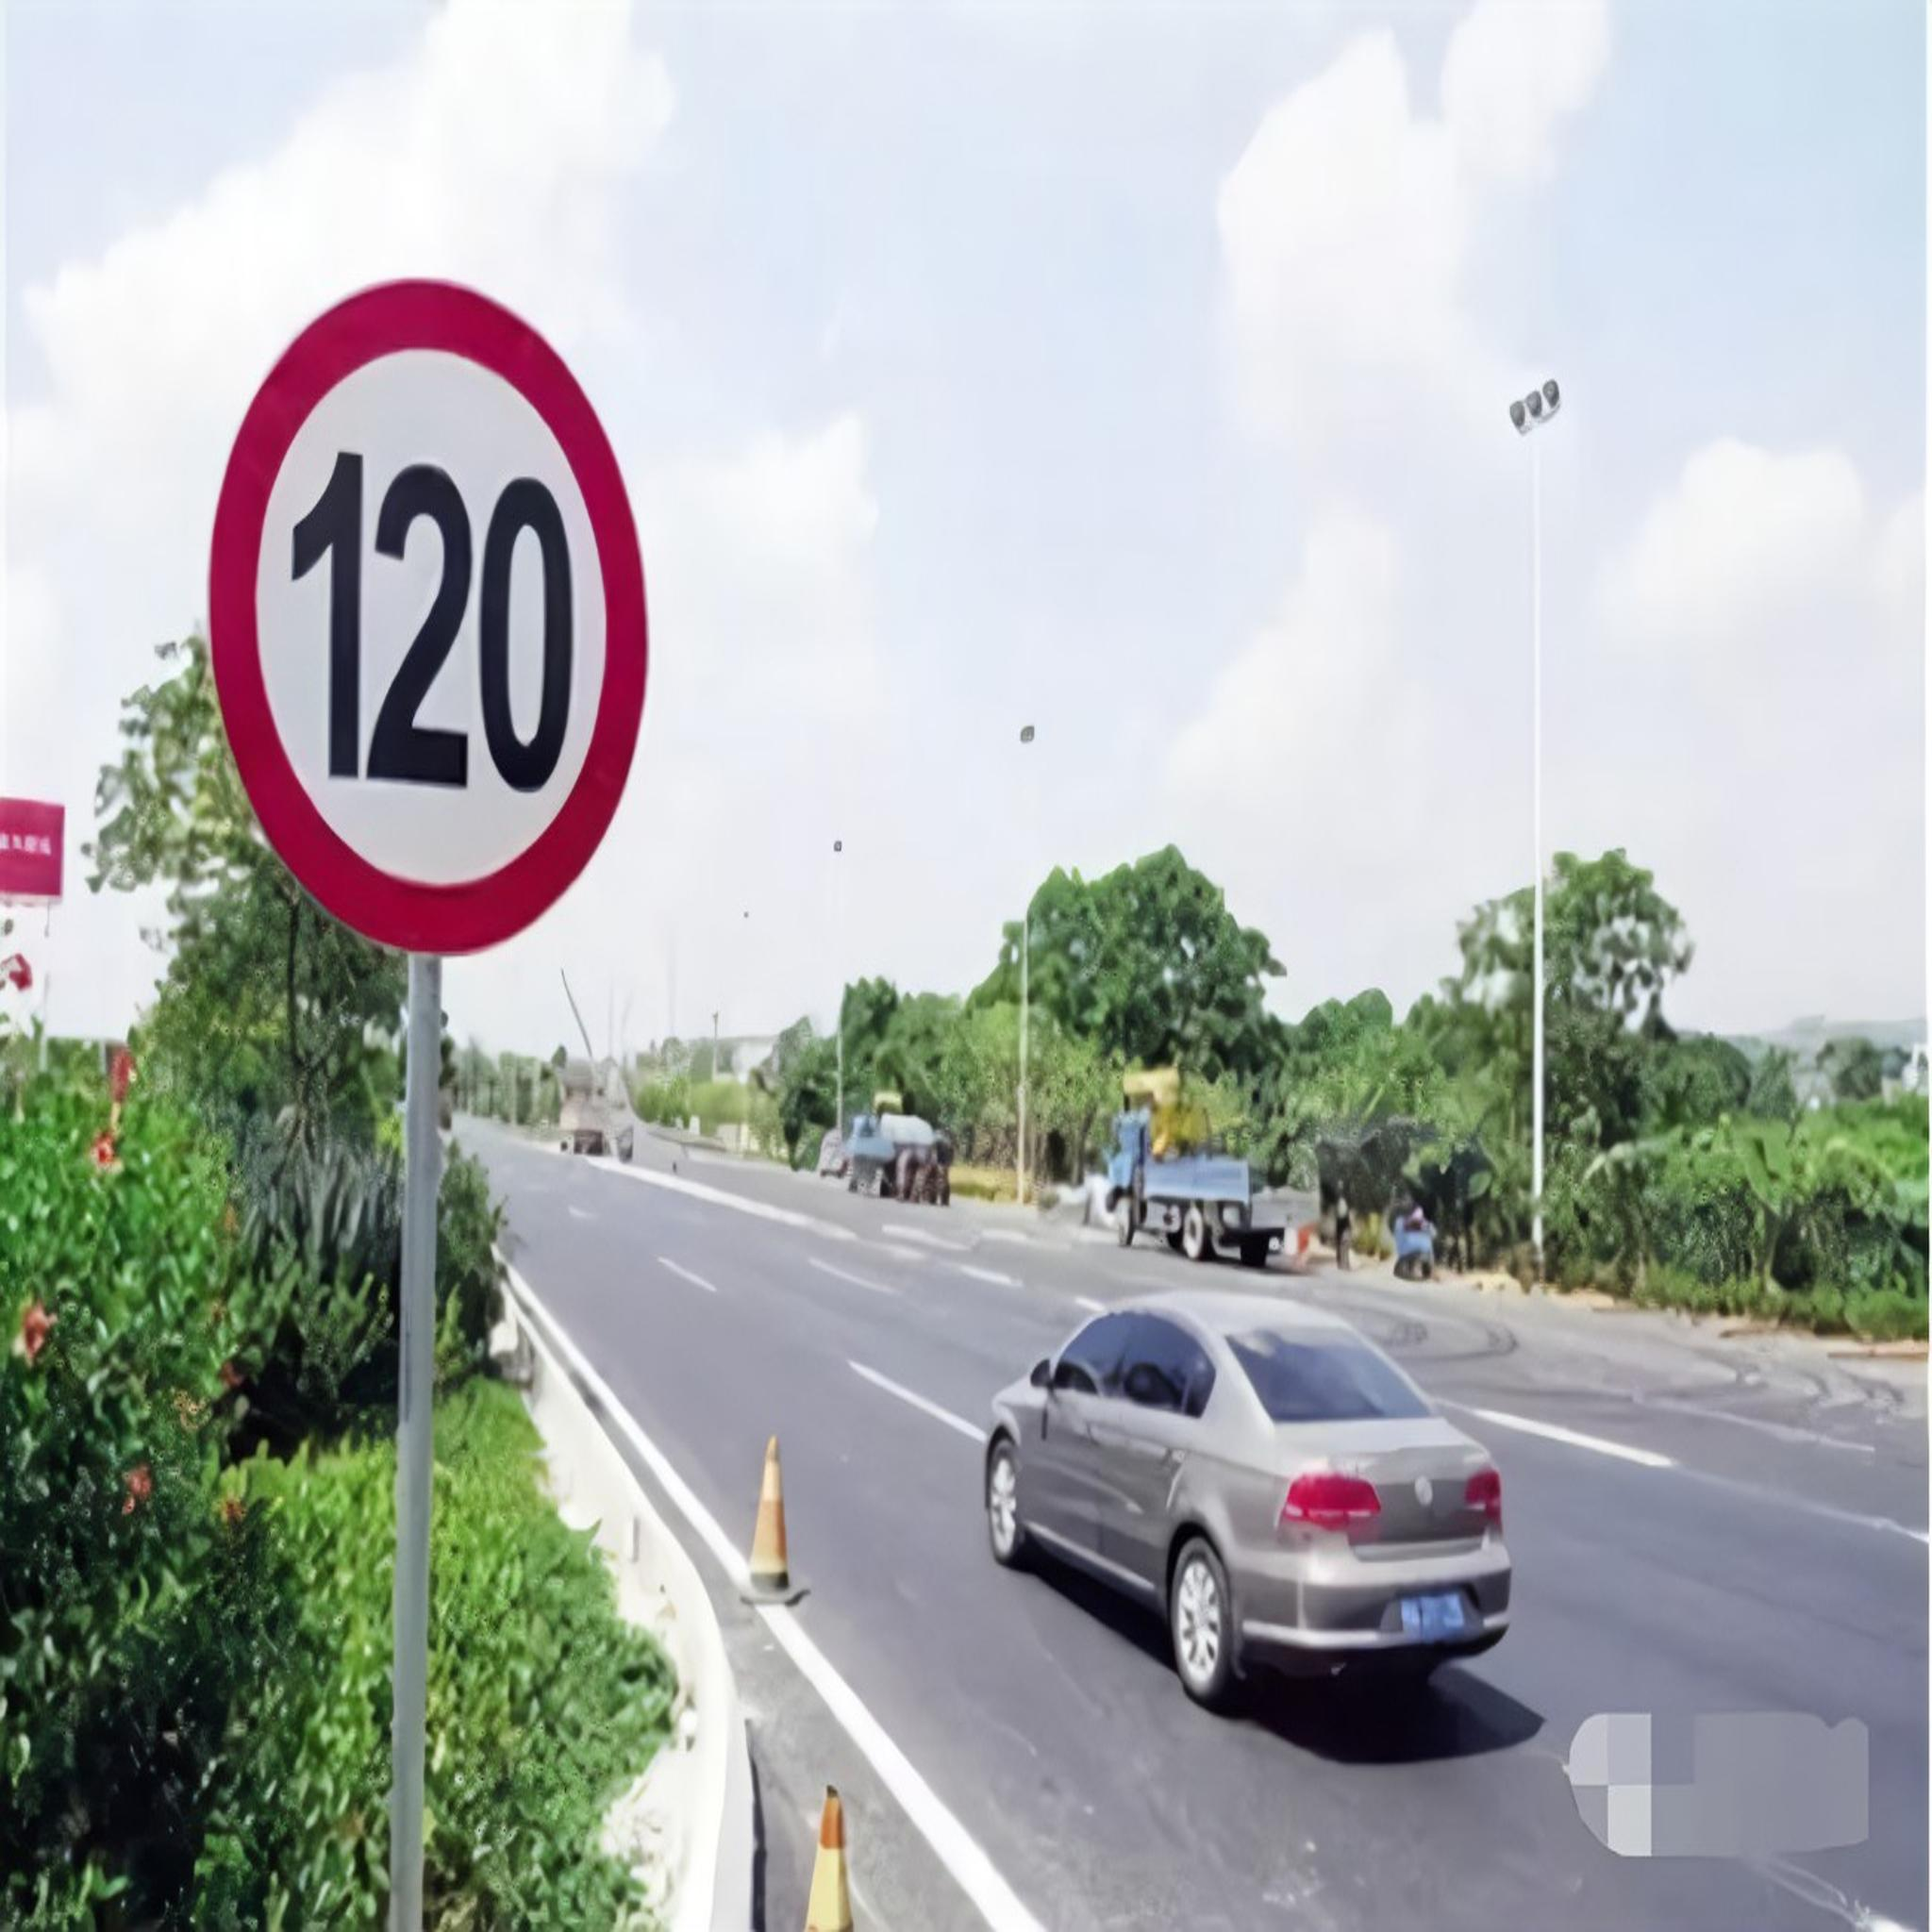pl120: (209, 269, 644, 961)
